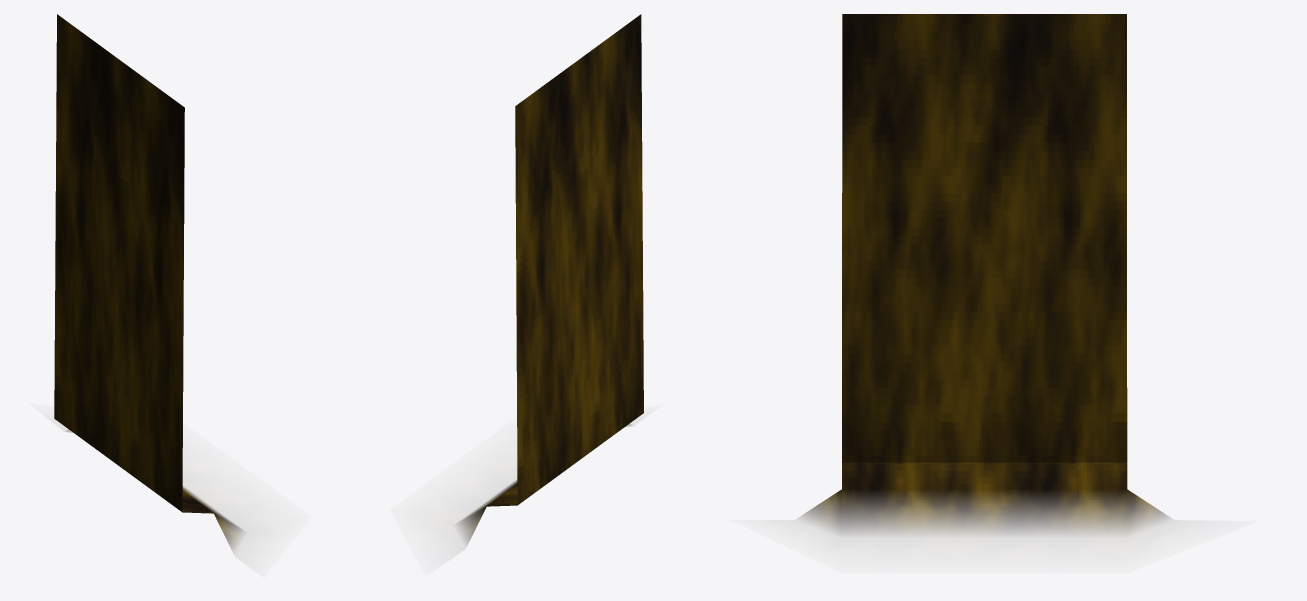
File: fog.glb
The picture shows the model from 3 angles, left to right: view 1: azimuth 30°, elevation 25°; view 2: azimuth 150°, elevation 25°; view 3: azimuth 270°, elevation 25°; orthographic projection. The views are drawn at different scales.
Parts seen in each view (by area): view 1: fog; view 2: fog; view 3: fog.
Boxes of the visible parts, box(x1,y1,x2,y2) form: fog: box(54, 14, 245, 553); fog: box(455, 14, 643, 546); fog: box(798, 14, 1170, 535).
Bounding box in the file's own units: 18.39 × 50.13 × 54.63.
1 material, 1 textured.
